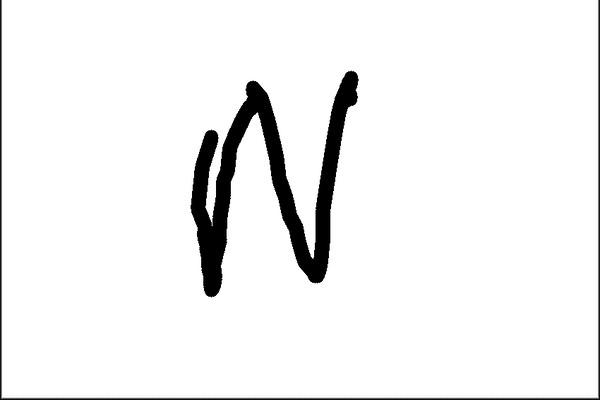N: (185, 68, 362, 299)
